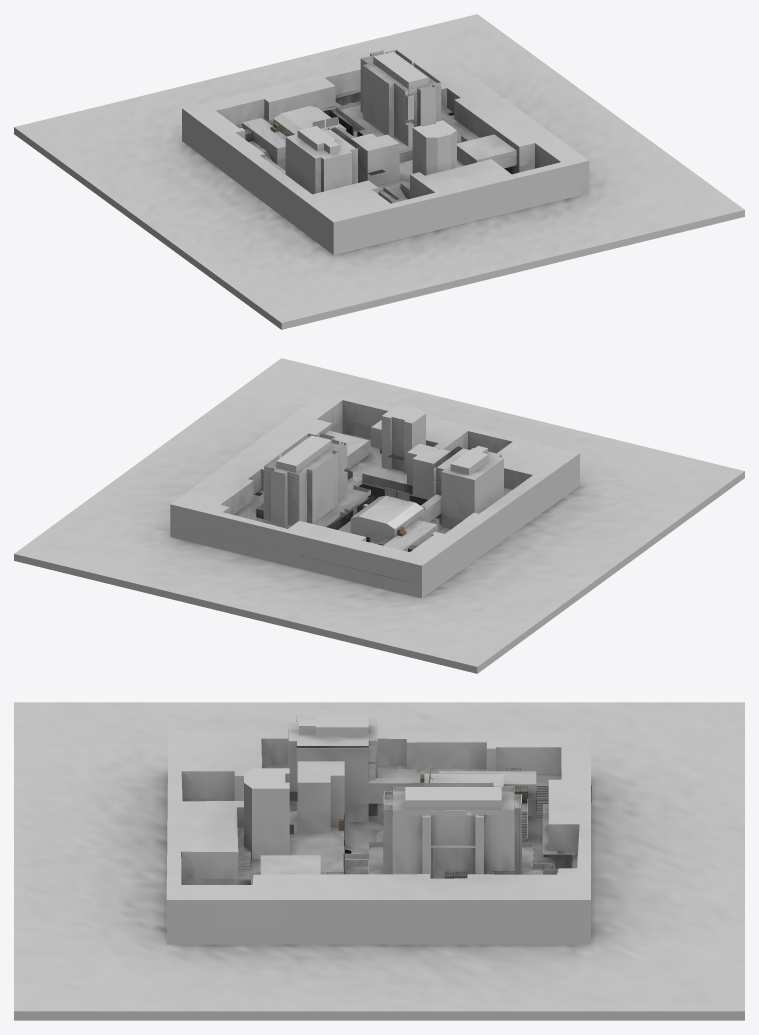
Rendered from stage_uu.glb.
3 views of the same model, one above another, from view 1: azimuth 30°, elevation 25°; view 2: azimuth 150°, elevation 25°; view 3: azimuth 270°, elevation 25° (orthographic). The views are drawn at different scales.
Visible parts, largest first — view 1: concrete_base_ground, concrete_wall1_2F, concrete_wall2_1F, concrete_building_white, concrete_building_red, concrete_building2, concrete_2F_ground, concrete_building1, concrete_cube.006, concrete_building5, concrete_cube.007, concrete_cube.001 (+1 smaller); view 2: concrete_base_ground, concrete_wall1_2F, concrete_wall2_1F, concrete_building_white, concrete_building_red, concrete_building5, concrete_2F_ground, concrete_building2, concrete_building1, concrete_cube.007, concrete_cube.001, concrete_cube.006 (+1 smaller); view 3: concrete_base_ground, concrete_wall1_2F, concrete_wall2_1F, concrete_building_white, concrete_2F_ground, concrete_building2, concrete_building_red, concrete_building1, concrete_cube.007, concrete_building5, concrete_cube.008, concrete_cube.006 (+3 smaller).
Boxes of the visible parts, <box> form: concrete_base_ground: <box>14,14,744,329</box>; concrete_wall1_2F: <box>182,47,589,241</box>; concrete_wall2_1F: <box>182,92,589,254</box>; concrete_building_white: <box>360,53,441,143</box>; concrete_building_red: <box>285,129,357,194</box>; concrete_building2: <box>412,120,456,175</box>; concrete_2F_ground: <box>236,89,516,200</box>; concrete_building1: <box>351,133,399,185</box>; concrete_cube.006: <box>457,134,516,167</box>; concrete_building5: <box>273,106,346,136</box>; concrete_cube.007: <box>373,52,428,89</box>; concrete_cube.001: <box>242,118,286,158</box>; concrete_base_ground: <box>14,358,744,673</box>; concrete_wall1_2F: <box>170,390,579,585</box>; concrete_wall2_1F: <box>170,419,579,598</box>; concrete_building_white: <box>263,437,344,526</box>; concrete_building_red: <box>435,448,503,520</box>; concrete_building5: <box>350,494,441,543</box>; concrete_2F_ground: <box>233,447,512,544</box>; concrete_building2: <box>381,406,425,473</box>; concrete_building1: <box>407,443,450,498</box>; concrete_cube.007: <box>276,435,331,472</box>; concrete_cube.001: <box>383,520,437,551</box>; concrete_cube.006: <box>325,430,369,468</box>; concrete_base_ground: <box>14,702,744,1020</box>; concrete_wall1_2F: <box>166,730,590,926</box>; concrete_wall2_1F: <box>166,785,591,944</box>; concrete_building_white: <box>383,791,521,878</box>; concrete_2F_ground: <box>233,765,577,884</box>; concrete_building2: <box>244,768,289,859</box>; concrete_building_red: <box>288,718,377,805</box>; concrete_building1: <box>297,761,344,832</box>; concrete_cube.007: <box>405,787,501,809</box>; concrete_building5: <box>368,773,503,803</box>; concrete_cube.008: <box>299,715,368,736</box>; concrete_cube.006: <box>260,855,320,874</box>.
Size of the model in its own units: 140 by 22.14 by 140.
Materials: 8 (6 with a texture image).
